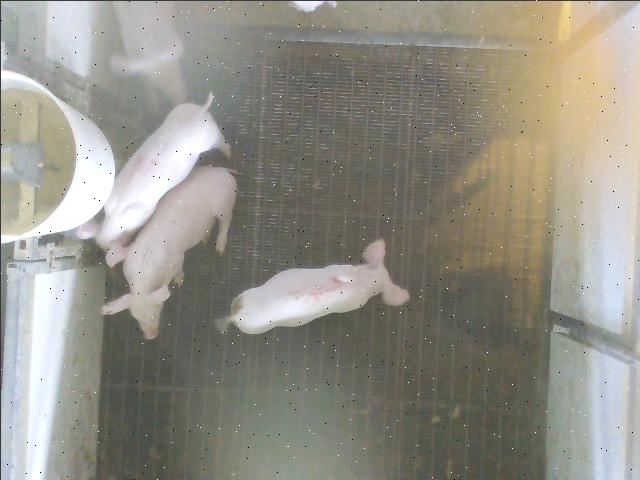pig-4: (78, 94, 229, 265)
pig-5: (216, 239, 409, 332)
